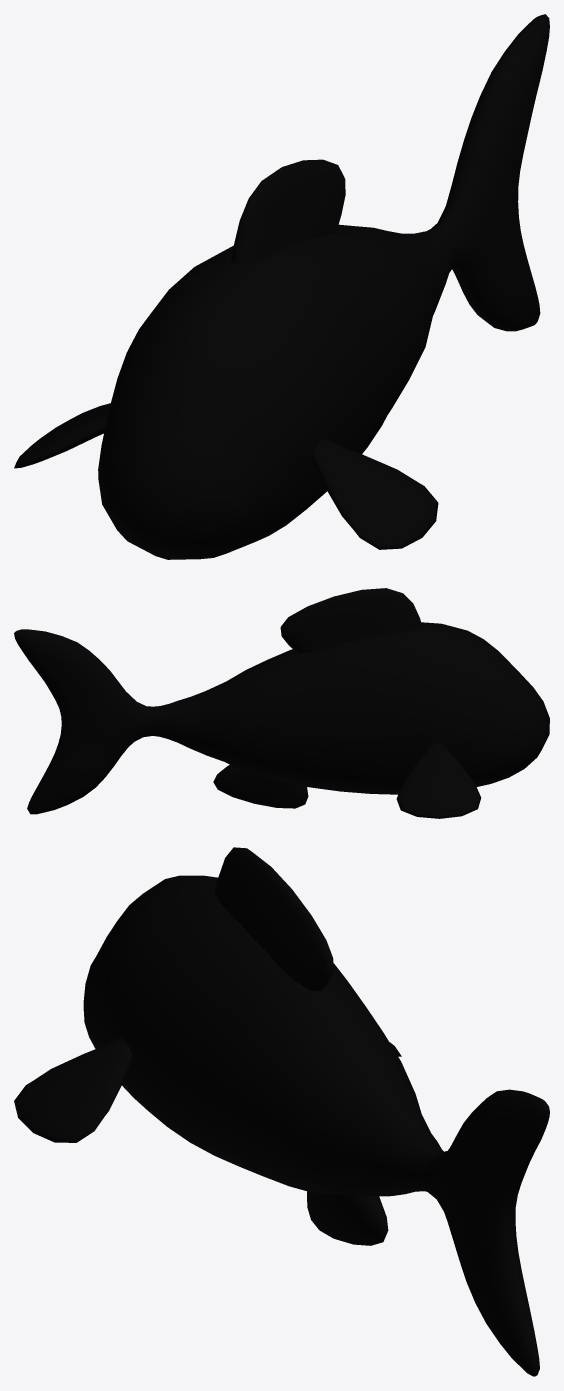
File: fish.glb
3 views of the same model, one above another, from view 1: azimuth 30°, elevation 25°; view 2: azimuth 150°, elevation 25°; view 3: azimuth 270°, elevation 25° (orthographic). The views are drawn at different scales.
Visible parts, largest first — view 1: mesh_id54; view 2: mesh_id54; view 3: mesh_id54.
Part boxes in pixels (x1=…): mesh_id54: x1=14, y1=14, x2=549, y2=559; mesh_id54: x1=14, y1=588, x2=549, y2=818; mesh_id54: x1=14, y1=847, x2=549, y2=1376.
Size of the model in its own units: 0.6669 by 0.353 by 0.5112.
1 material, 1 textured.
